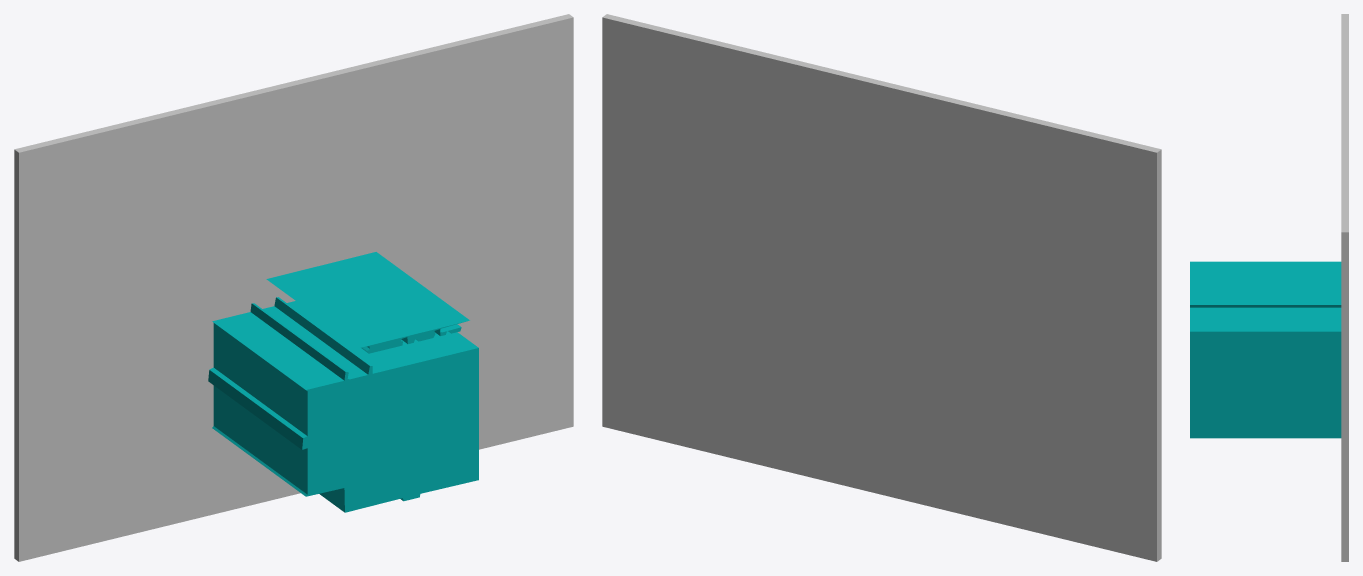
The picture shows the model from 3 angles, left to right: view 1: azimuth 30°, elevation 25°; view 2: azimuth 150°, elevation 25°; view 3: azimuth 270°, elevation 25°; orthographic projection. The views are drawn at different scales.
Parts seen in each view (by area): view 1: world; view 2: world; view 3: world.
Boxes of the visible parts, x1,y1,x2,y2 form: world: (14, 14, 573, 561); world: (602, 14, 1161, 561); world: (1190, 14, 1348, 561).
Size of the model in its own units: 10.23 by 7.21 by 3.15.
